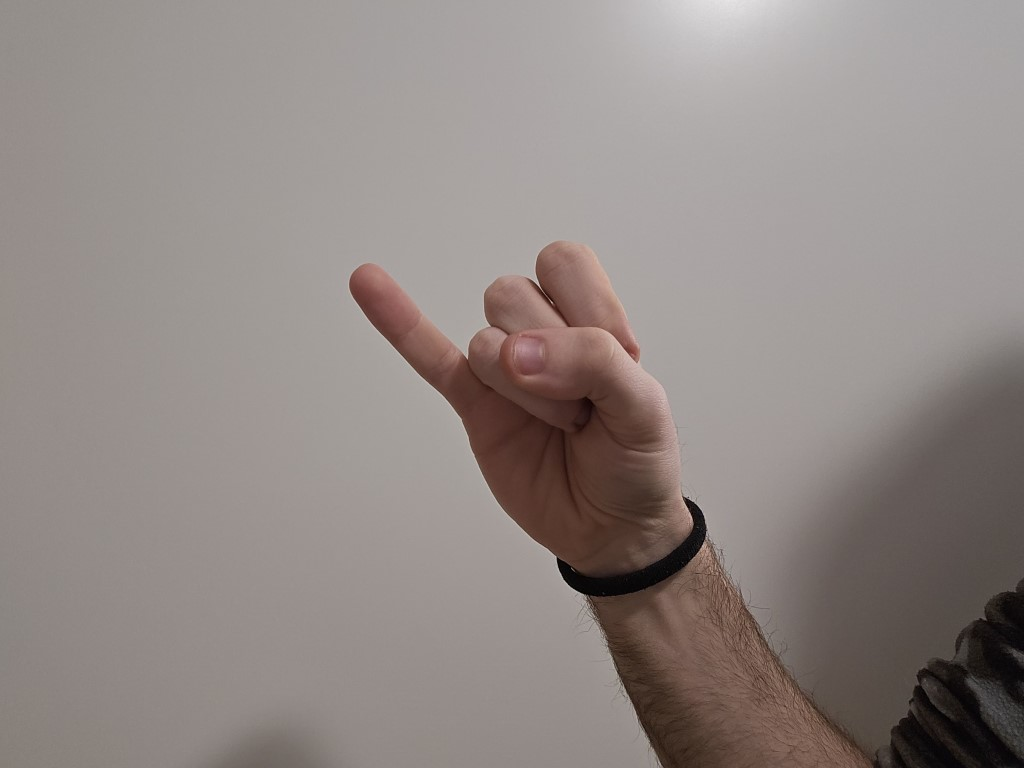j: (318, 221, 678, 547)
